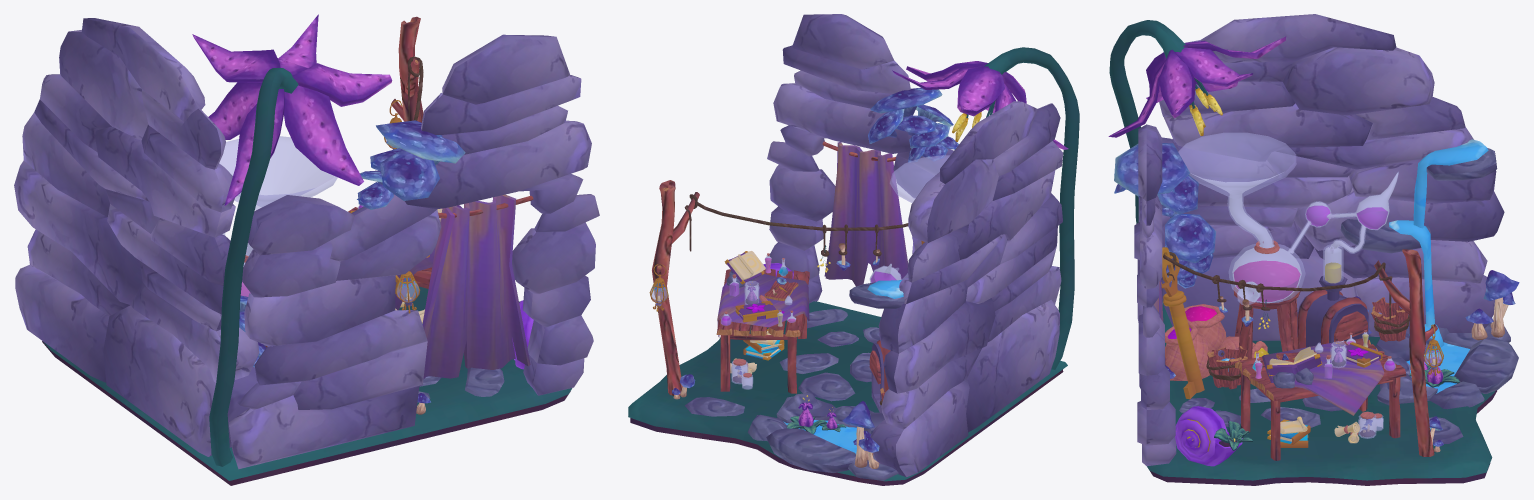
File: boutique.glb
The picture shows the model from 3 angles, left to right: view 1: azimuth 30°, elevation 25°; view 2: azimuth 150°, elevation 25°; view 3: azimuth 270°, elevation 25°; orthographic projection. The views are drawn at different scales.
Visible parts, largest first — view 1: Prop_SpellBook_Checker_0; view 2: Prop_SpellBook_Checker_0; view 3: Prop_SpellBook_Checker_0, Prop_Sacks_Checker_0.
Boxes of the visible parts, left/top/right/bottom form: Prop_SpellBook_Checker_0: left=14, top=14, right=599, bottom=485; Prop_SpellBook_Checker_0: left=628, top=14, right=1079, bottom=485; Prop_SpellBook_Checker_0: left=1108, top=14, right=1519, bottom=485; Prop_Sacks_Checker_0: left=1165, top=304, right=1268, bottom=380.
Bounding box in the file's own units: 0.5855 × 0.5736 × 0.6386.
1 material, 1 textured.
